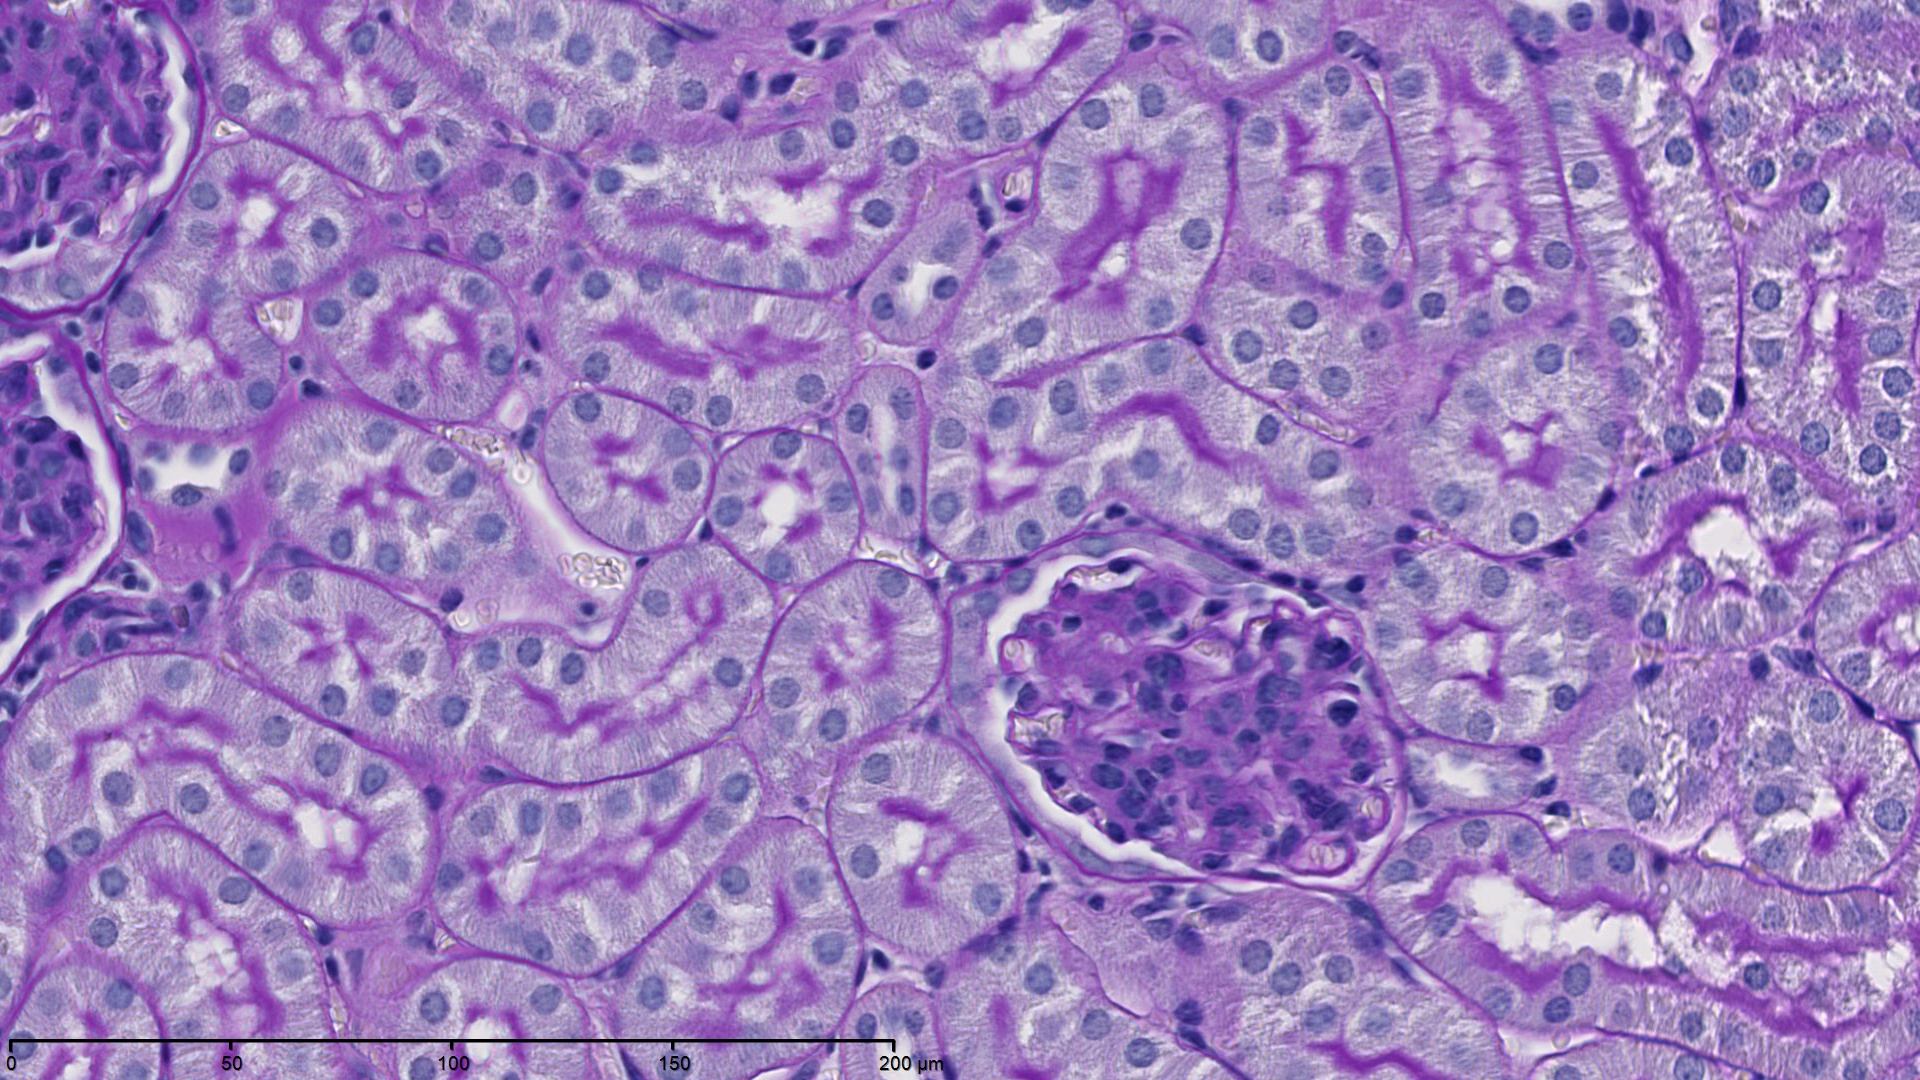Glomeruli: (959, 508, 1425, 909), (1, 328, 216, 727), (1, 5, 200, 316)
